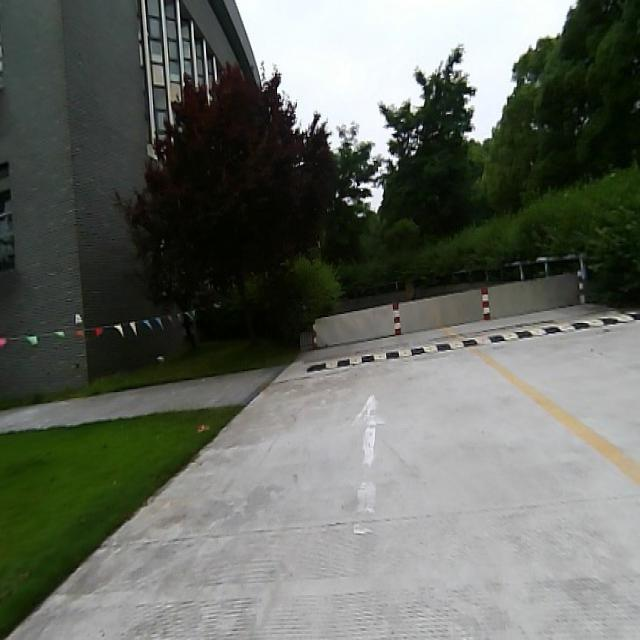Speed Bump: (309, 304, 640, 372)
